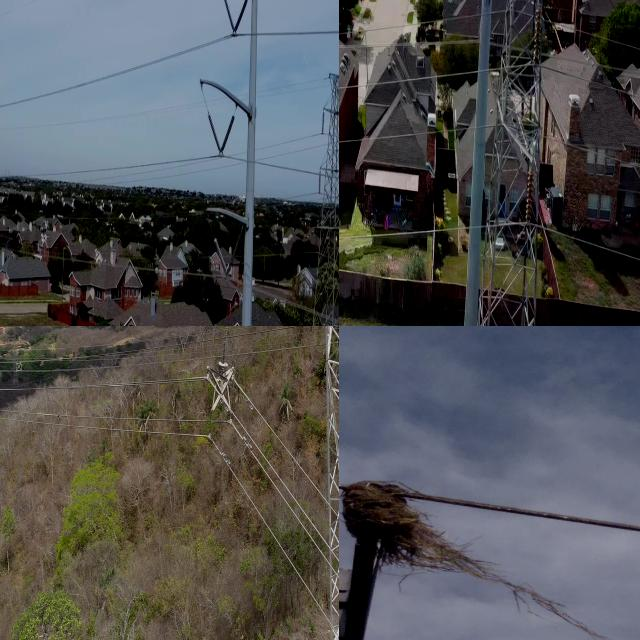杆塔: (475, 0, 549, 326), (292, 57, 339, 326)
植被遮挡: (339, 470, 615, 640)
正常电缆: (214, 441, 308, 601), (234, 423, 309, 540), (239, 419, 309, 521), (246, 395, 311, 484), (0, 350, 214, 375), (0, 414, 206, 439), (0, 403, 205, 425), (0, 374, 201, 393)
正常绝缘子: (217, 232, 246, 296), (208, 226, 233, 287), (201, 100, 225, 163), (213, 107, 239, 165), (521, 157, 536, 233), (227, 0, 251, 45), (217, 326, 240, 370), (220, 0, 239, 42), (531, 0, 542, 69), (315, 168, 323, 201), (321, 106, 326, 138)
